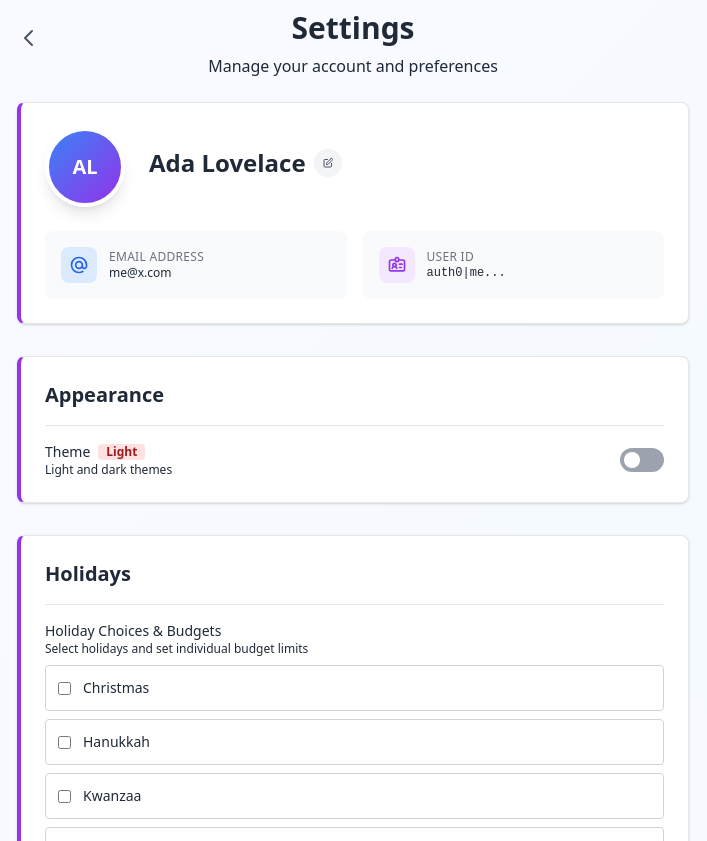
Test case: Settings page › editing the display name › Cancel discards the edit without a request
This screenshot has width=707, height=841.
Click the button titled "Edit name". click: (328, 163)
box: x1=314 y1=149 x2=342 y2=177
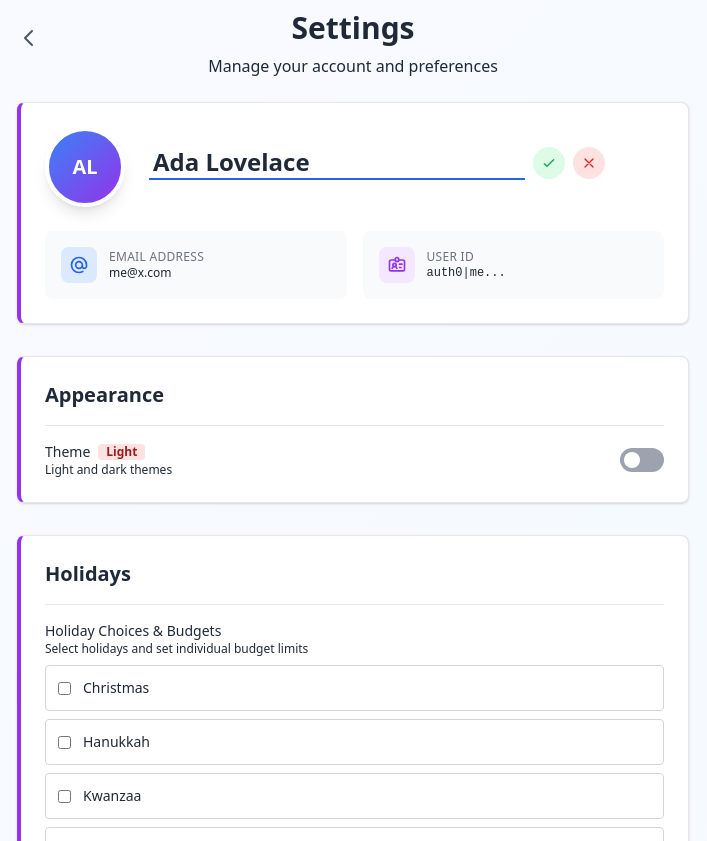
Replace the text in the field with placeholder "Enter your name" with "Someone Else". click: (337, 163)
box: x1=149 y1=146 x2=525 y2=180
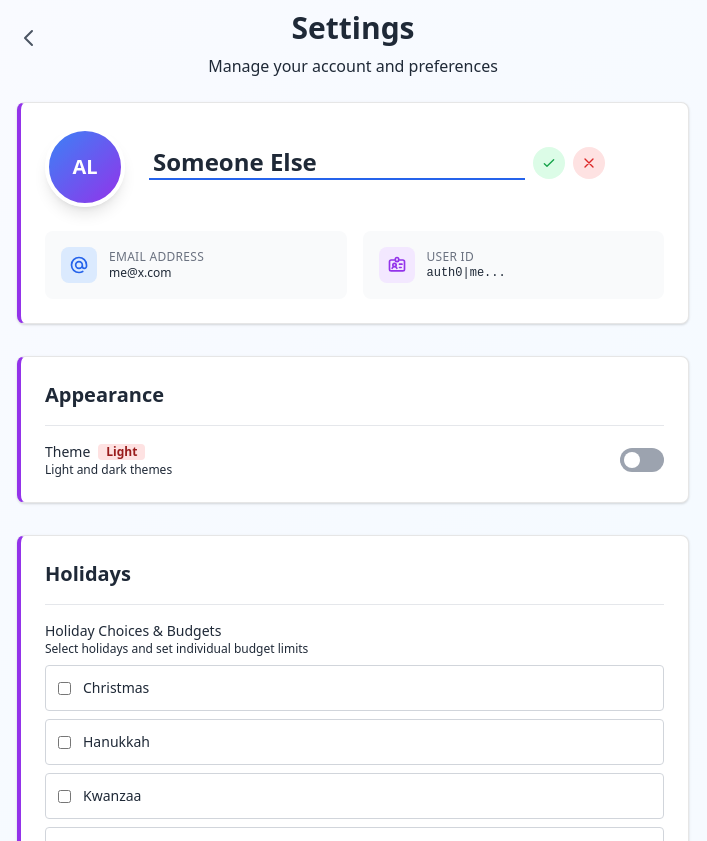
Click the button titled "Cancel". click: (589, 163)
box: x1=573 y1=147 x2=605 y2=179
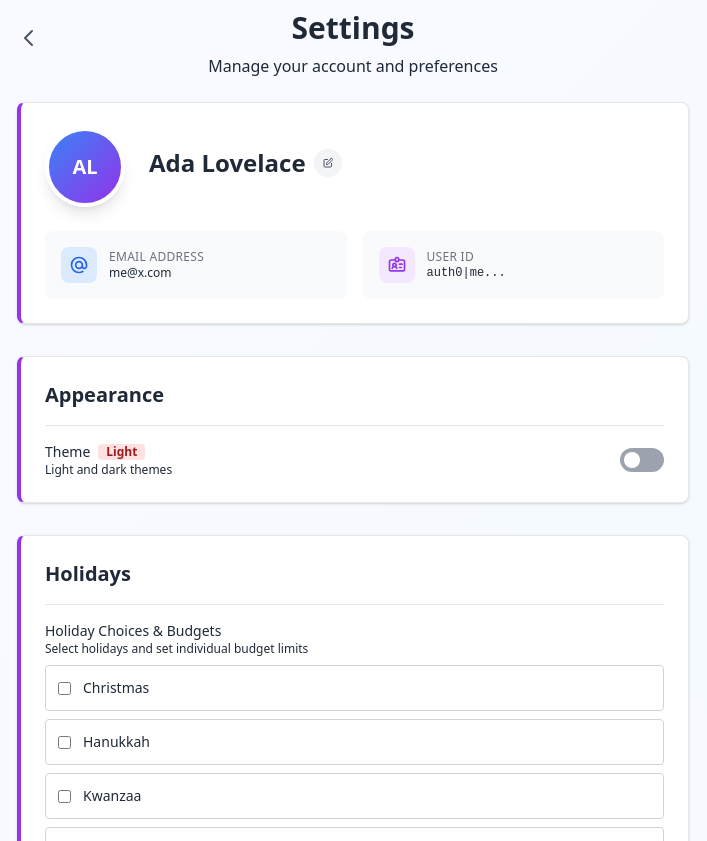
Now the heading "Ada Lovelace" is shown, box x1=149 y1=147 x2=306 y2=179
